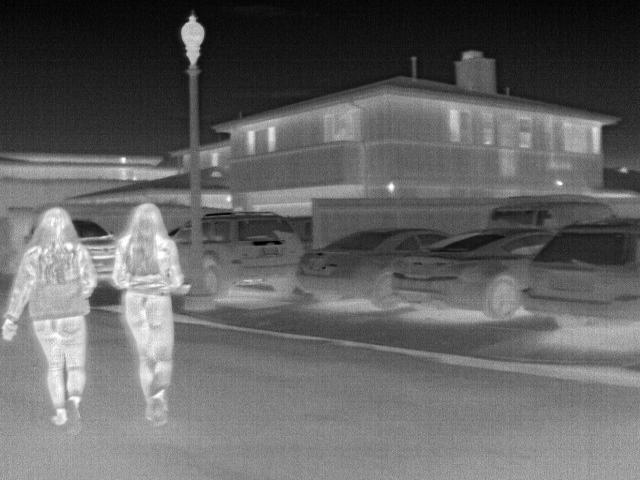car: (389, 227, 556, 318), (519, 219, 638, 328), (296, 228, 450, 309), (199, 213, 305, 303), (490, 191, 618, 230), (70, 220, 118, 282), (167, 220, 189, 284), (285, 213, 312, 254)
person: (2, 206, 96, 428), (110, 203, 191, 429)
